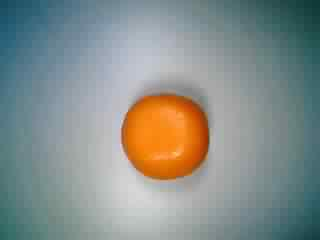orange: (115, 82, 210, 184)
